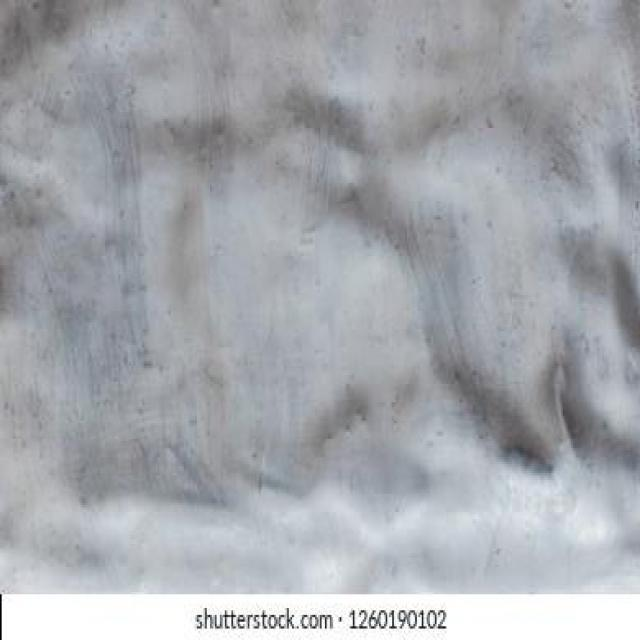dent: (226, 105, 589, 491)
